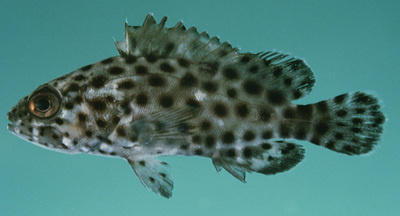fish: (6, 11, 388, 199)
